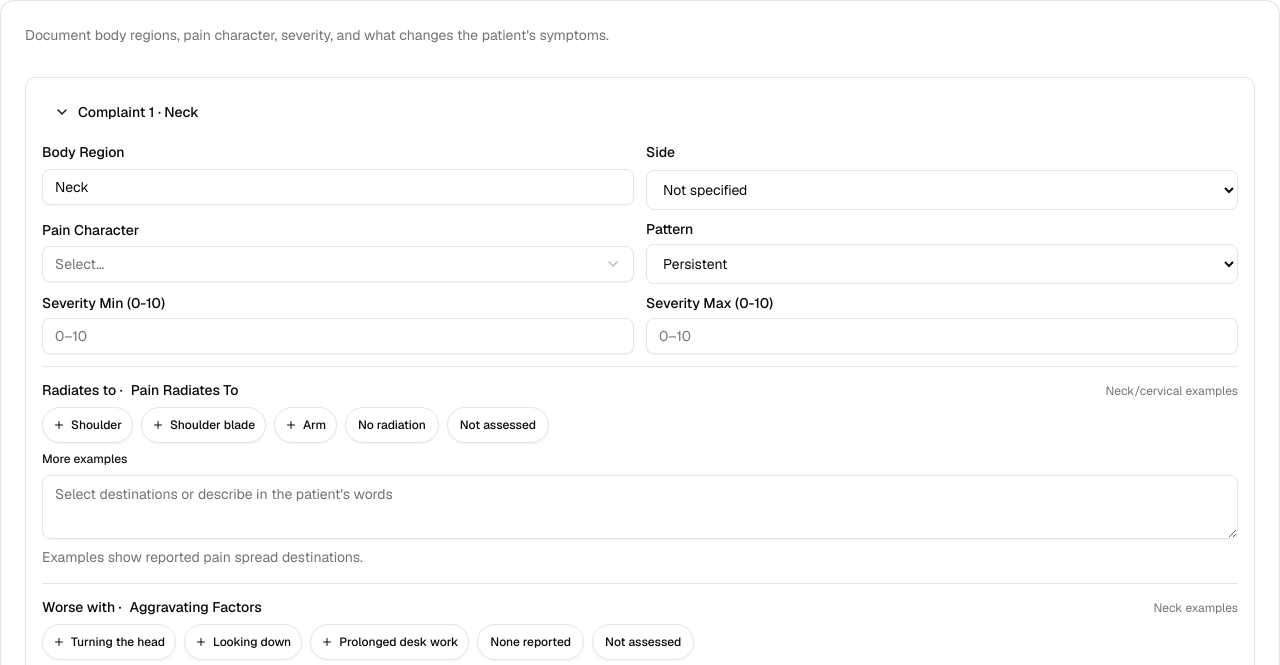
it: chief complaint hints › uses explicit radiation statuses and keeps replacement state localized
This screenshot has width=1280, height=665.
In the text box labelled "Pain Radiates To": (640, 507) [42,475,1238,539], type "Patient wording only"
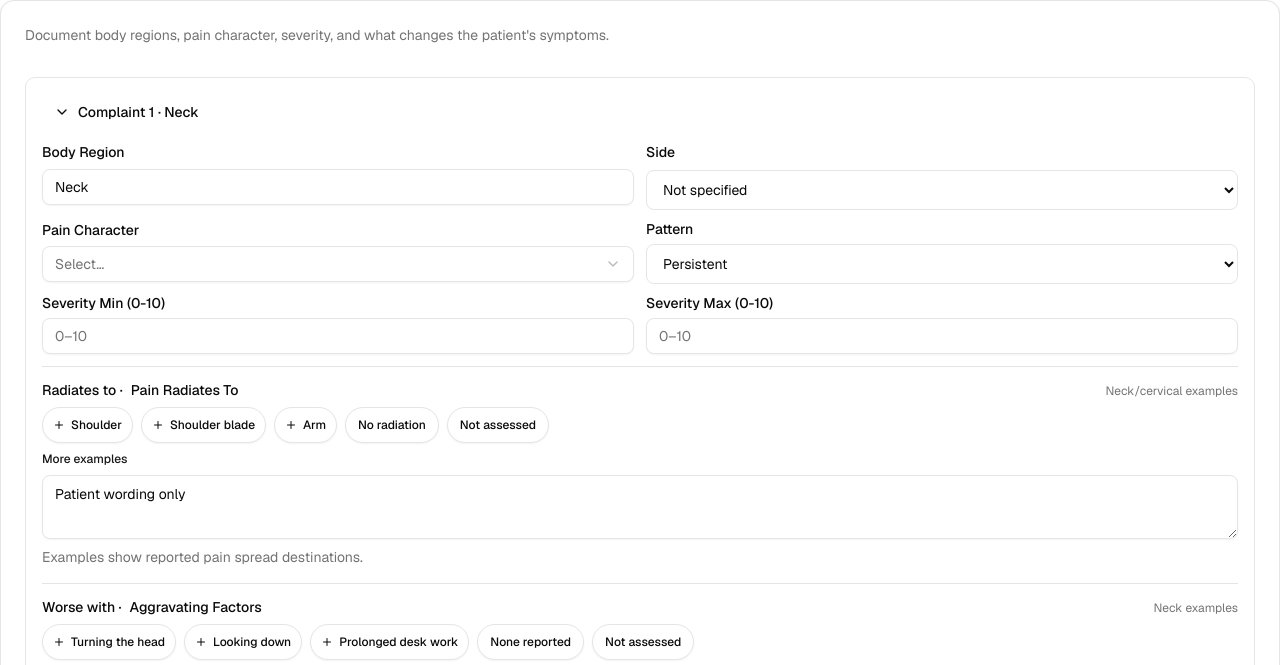
Click the button "No radiation": (392, 425) [345,407,439,443]
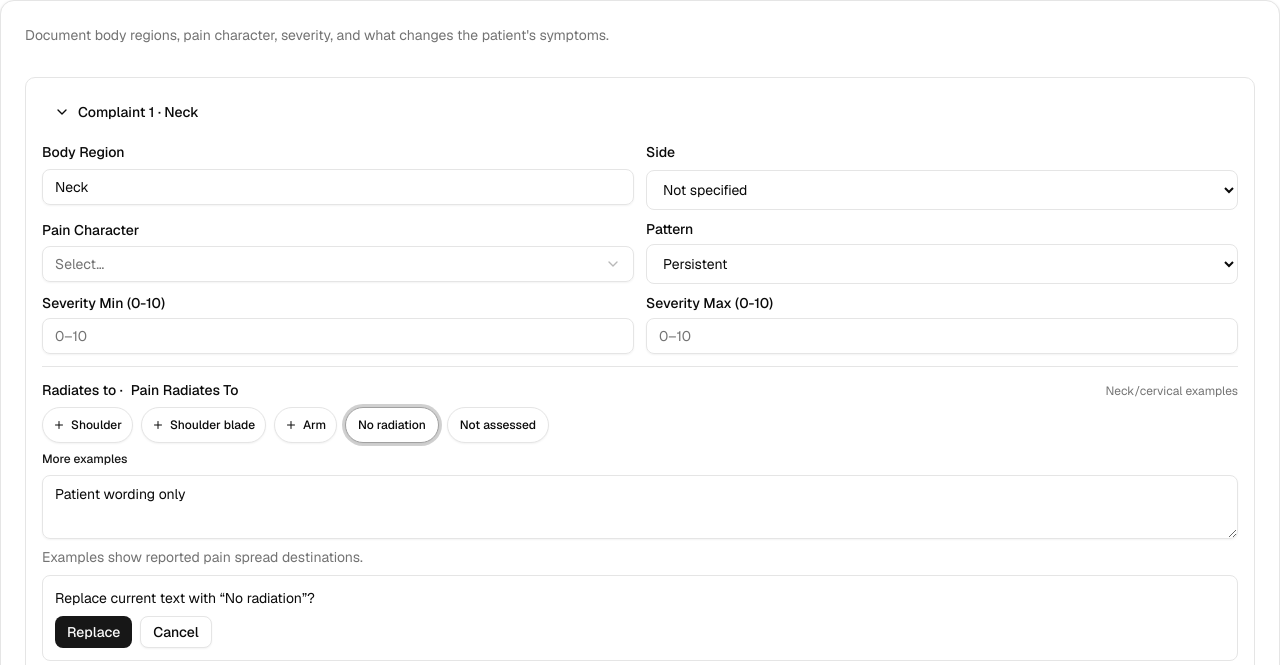
Click the button "Replace": (94, 632) [55,616,132,648]
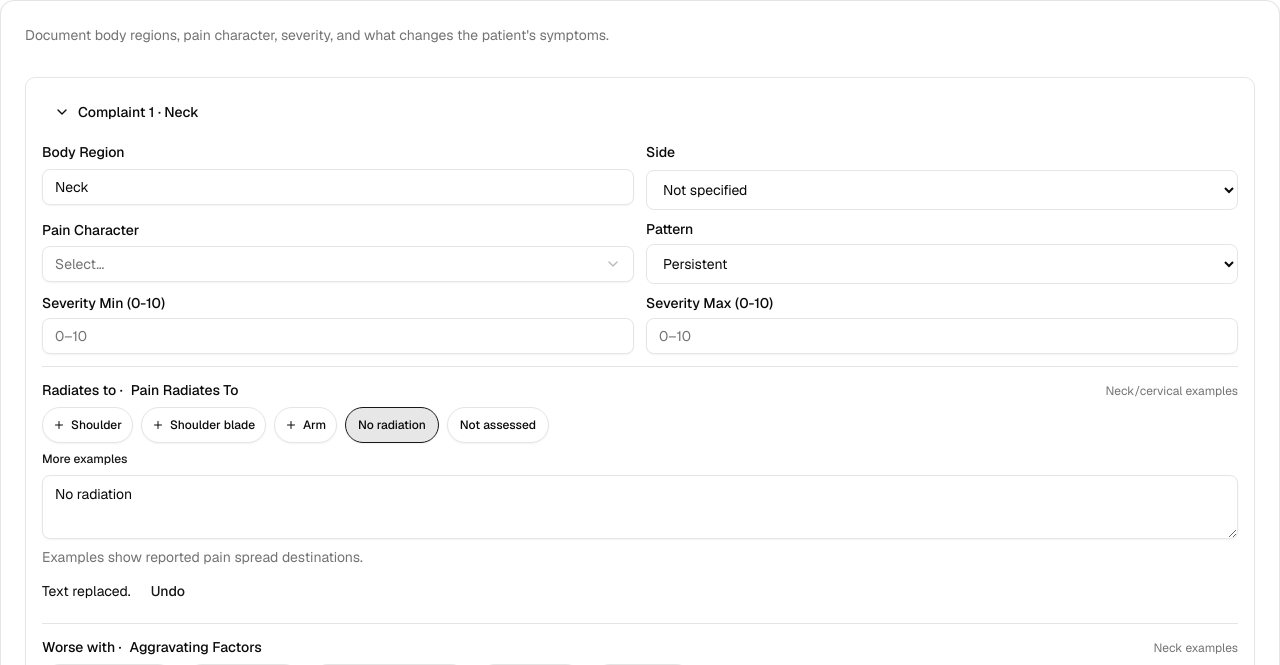
Expected: the text box labelled "Pain Radiates To" holds "No radiation", [42,475,1238,539]
